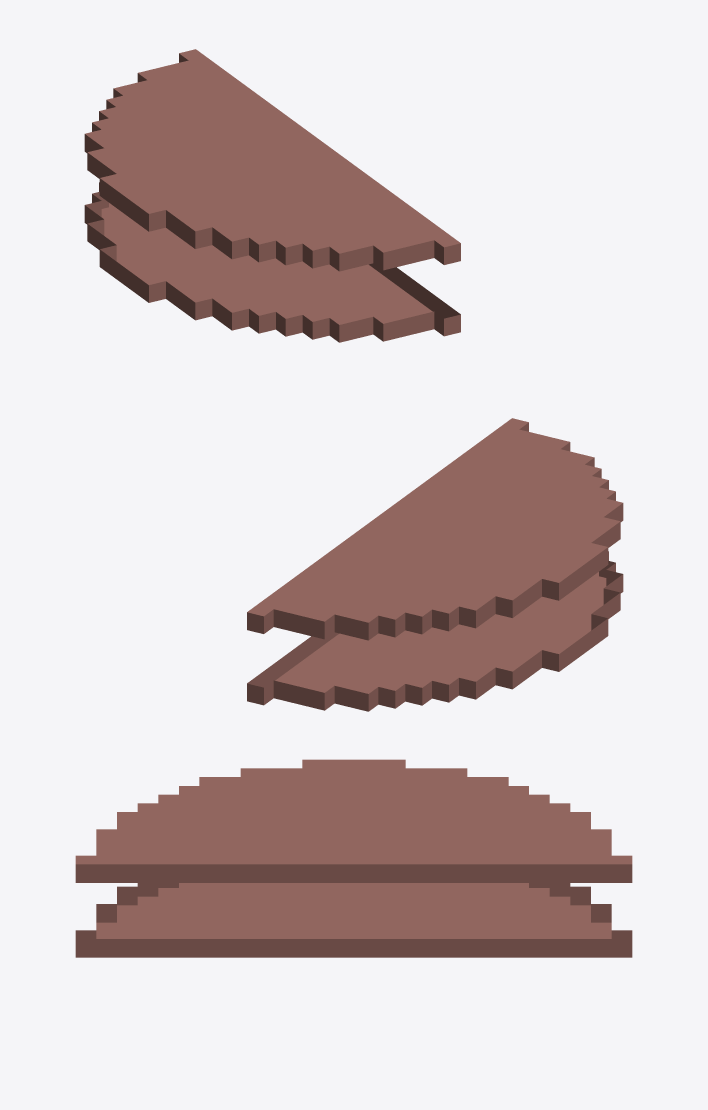
Rendered from HeavyCircle.fbx.
3 views of the same model, one above another, from view 1: azimuth 30°, elevation 25°; view 2: azimuth 150°, elevation 25°; view 3: azimuth 270°, elevation 25° (orthographic). The views are drawn at different scales.
Parts seen in each view (by area): view 1: Untitled; view 2: Untitled; view 3: Untitled.
Boxes of the visible parts, x1,y1,x2,y2 form: Untitled: (84,49,460,342); Untitled: (247,418,623,711); Untitled: (75,759,632,957).
Size of the model in its own units: 3.3 by 0.5 by 3.3.
